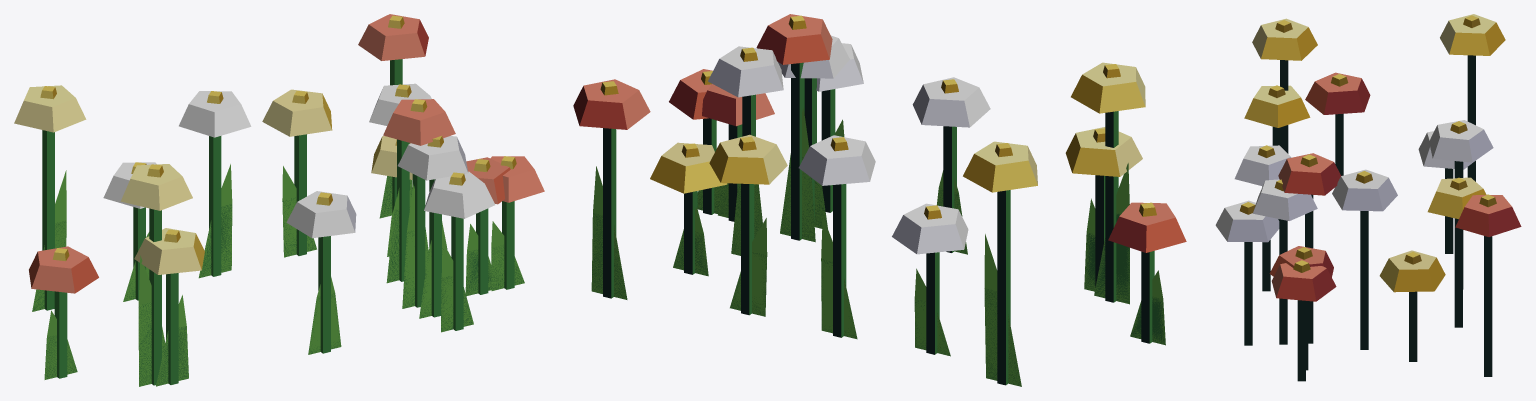
The model's file is flower_patch_a.glb.
3 views of the same model, side by side, from view 1: azimuth 30°, elevation 25°; view 2: azimuth 150°, elevation 25°; view 3: azimuth 270°, elevation 25° (orthographic). The views are drawn at different scales.
Parts seen in each view (by area): view 1: flower_patch_a; view 2: flower_patch_a; view 3: flower_patch_a.
Part boxes in pixels (left/top/right/bottom): flower_patch_a: left=14, top=14, right=544, bottom=386; flower_patch_a: left=573, top=14, right=1186, bottom=386; flower_patch_a: left=1215, top=14, right=1521, bottom=381.
Bounding box in the file's own units: 0.7369 × 0.3154 × 0.4393.
